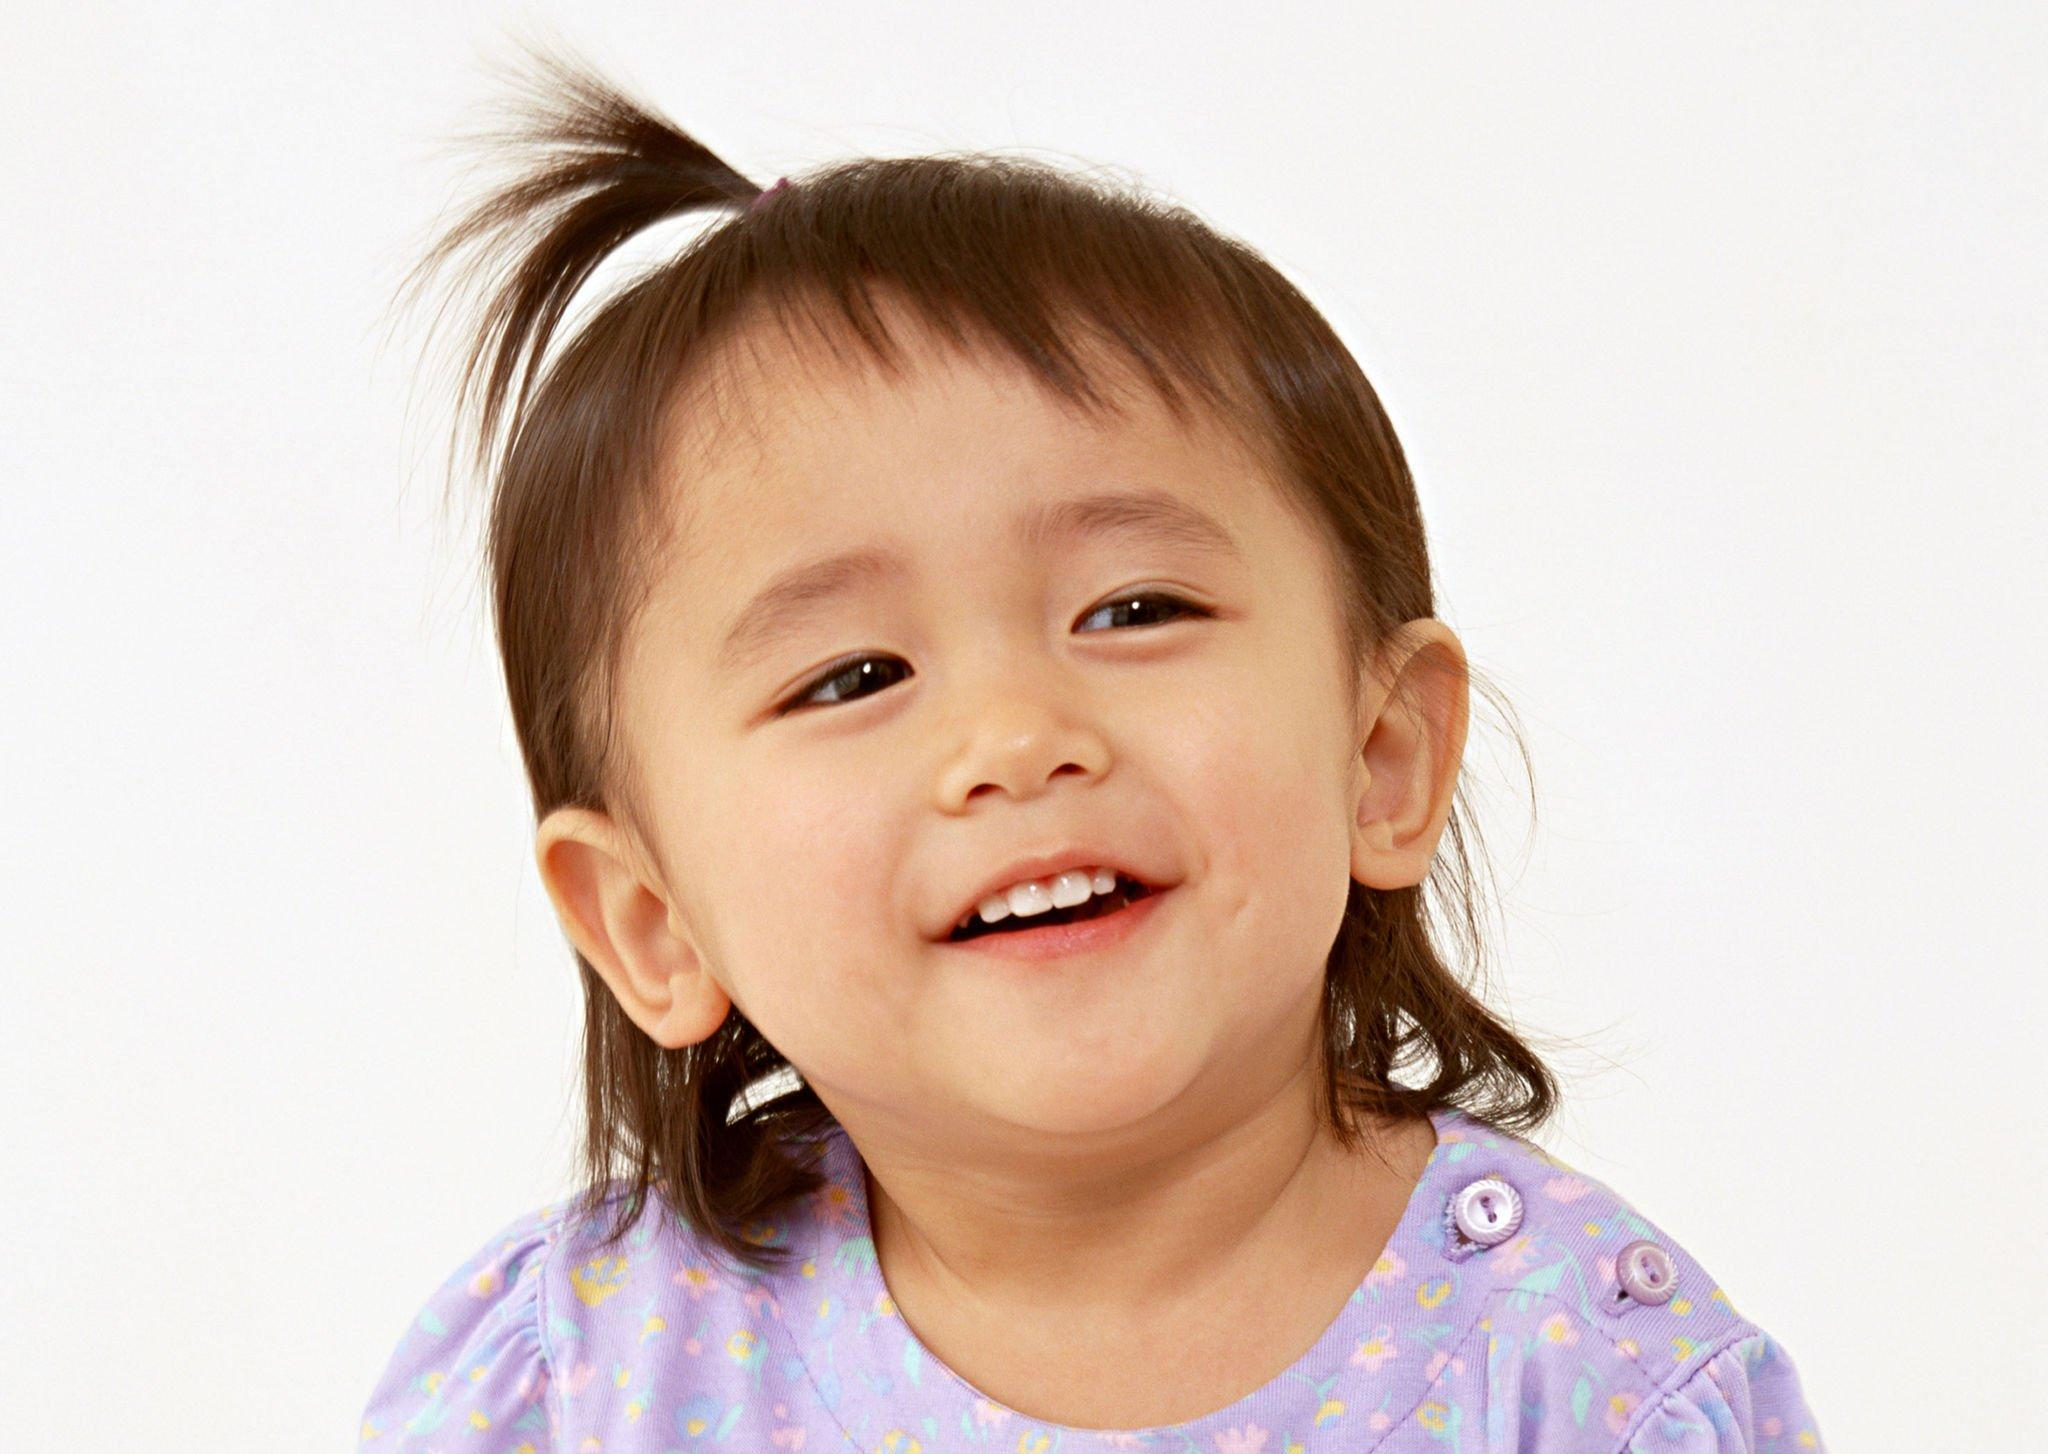Healthy: (596, 316, 1409, 1198)
